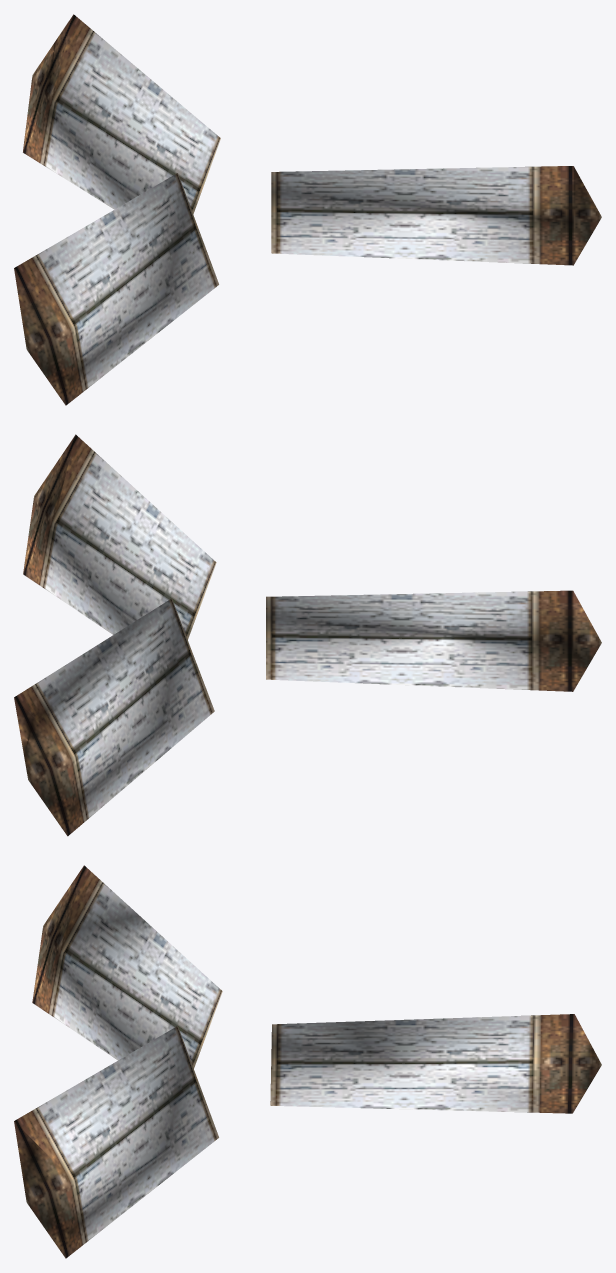
Rendered from Blades.obj.
3 views of the same model, one above another, from view 1: azimuth 30°, elevation 25°; view 2: azimuth 150°, elevation 25°; view 3: azimuth 270°, elevation 25° (orthographic).
Size of the model in its own units: 34.64 by 7.3 by 31.11.
1 material, 1 textured.
